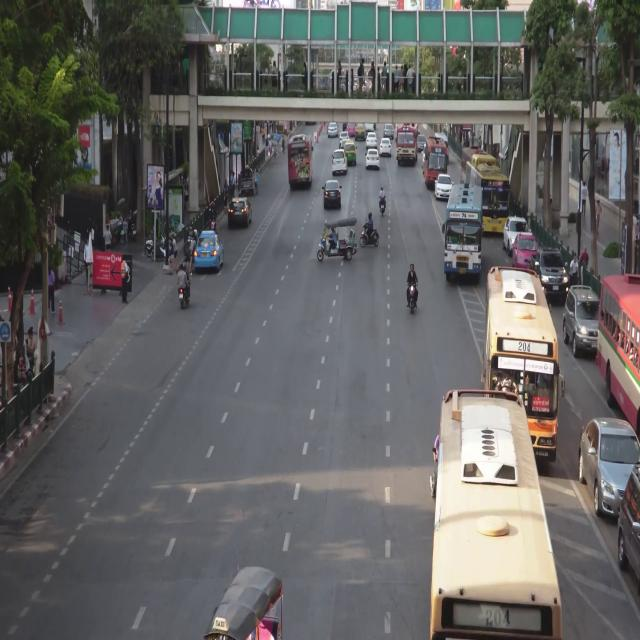bus: (432, 391, 564, 640), (483, 270, 560, 463), (599, 274, 640, 439), (465, 157, 510, 233), (446, 186, 481, 280), (461, 148, 489, 200), (288, 135, 312, 187), (425, 138, 447, 188), (397, 124, 417, 164)
car: (579, 416, 640, 511), (207, 569, 285, 640), (618, 466, 640, 595), (563, 283, 600, 359), (533, 249, 569, 302), (319, 222, 356, 262), (503, 216, 532, 253), (228, 197, 252, 226), (435, 173, 454, 201), (324, 180, 342, 207), (332, 150, 348, 174), (241, 169, 254, 196), (366, 149, 380, 171), (380, 137, 392, 157), (435, 133, 448, 151), (416, 133, 426, 149), (366, 134, 377, 148), (384, 124, 394, 139), (341, 138, 352, 150), (329, 124, 338, 138), (340, 132, 350, 143), (364, 122, 374, 132)
pedestrian: (25, 327, 36, 364), (48, 264, 56, 313), (120, 257, 128, 304), (569, 254, 579, 284), (84, 240, 90, 282), (596, 198, 602, 235), (105, 223, 112, 253), (581, 245, 590, 266), (582, 180, 587, 216), (230, 171, 236, 200), (172, 234, 178, 262), (170, 237, 175, 270), (184, 175, 189, 208), (223, 179, 228, 209), (255, 169, 260, 195), (281, 135, 286, 155), (265, 134, 269, 157), (269, 135, 273, 157), (273, 142, 277, 162), (262, 127, 265, 145), (257, 146, 260, 154)
taxi: (511, 235, 541, 274), (195, 232, 223, 271), (345, 142, 356, 165), (355, 125, 366, 140), (347, 122, 356, 137)
